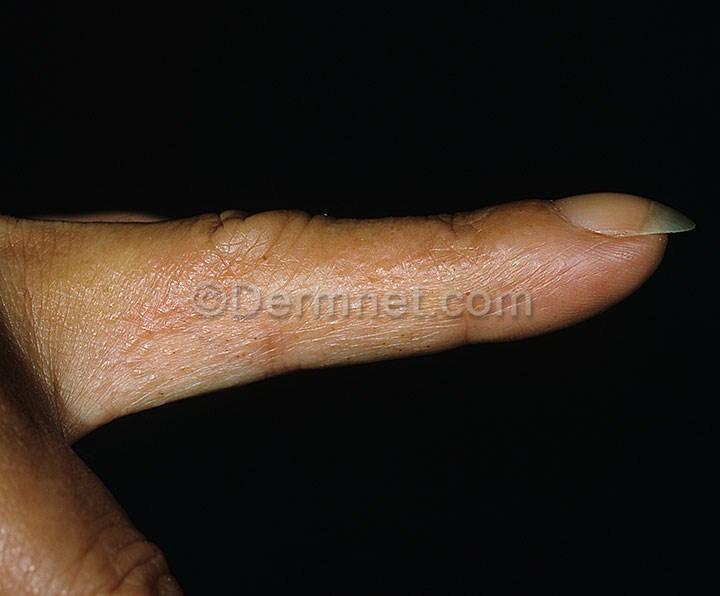Eczema: (33, 320, 156, 416), (51, 254, 187, 319), (178, 232, 304, 289), (159, 313, 256, 383), (525, 244, 614, 315), (411, 224, 516, 284), (254, 318, 348, 378), (299, 235, 407, 286), (350, 317, 425, 357)
